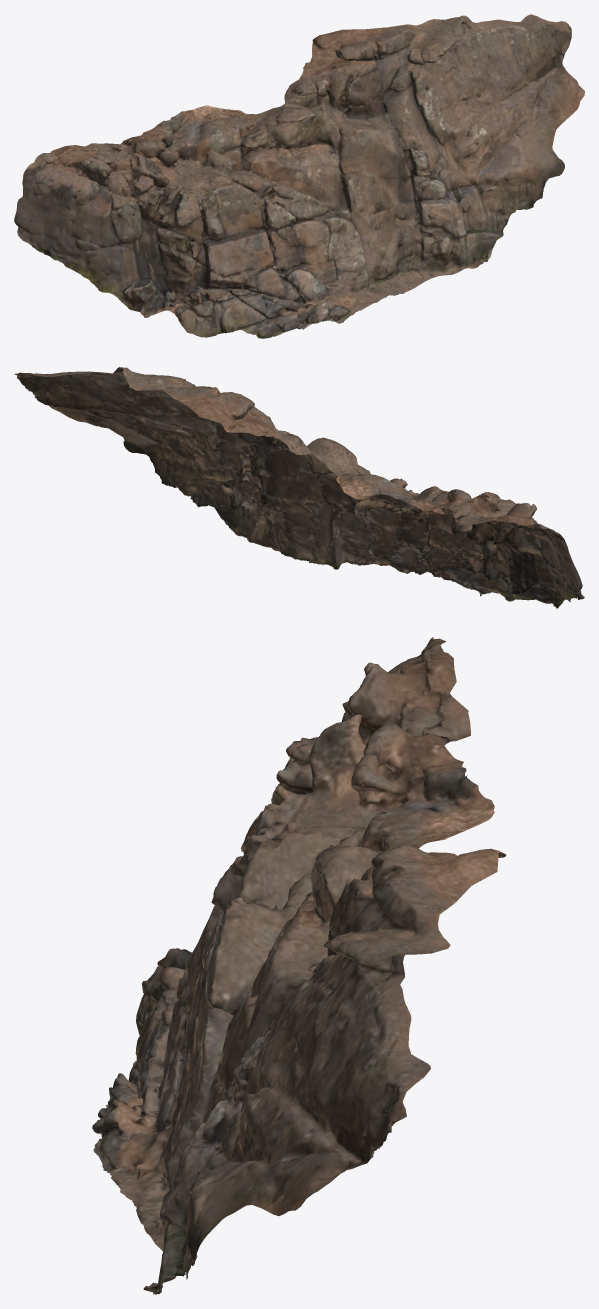
The model's file is cliff.glb.
3 views of the same model, one above another, from view 1: azimuth 30°, elevation 25°; view 2: azimuth 150°, elevation 25°; view 3: azimuth 270°, elevation 25° (orthographic). The views are drawn at different scales.
Parts seen in each view (by area): view 1: drone_rock_02_LOD0; view 2: drone_rock_02_LOD0; view 3: drone_rock_02_LOD0.
Boxes of the visible parts, x1,y1,x2,y2 form: drone_rock_02_LOD0: (14,14,584,338); drone_rock_02_LOD0: (14,367,584,608); drone_rock_02_LOD0: (92,637,506,1294).
Size of the model in its own units: 20.23 by 7.18 by 6.59.
Materials: 1 (1 with a texture image).
